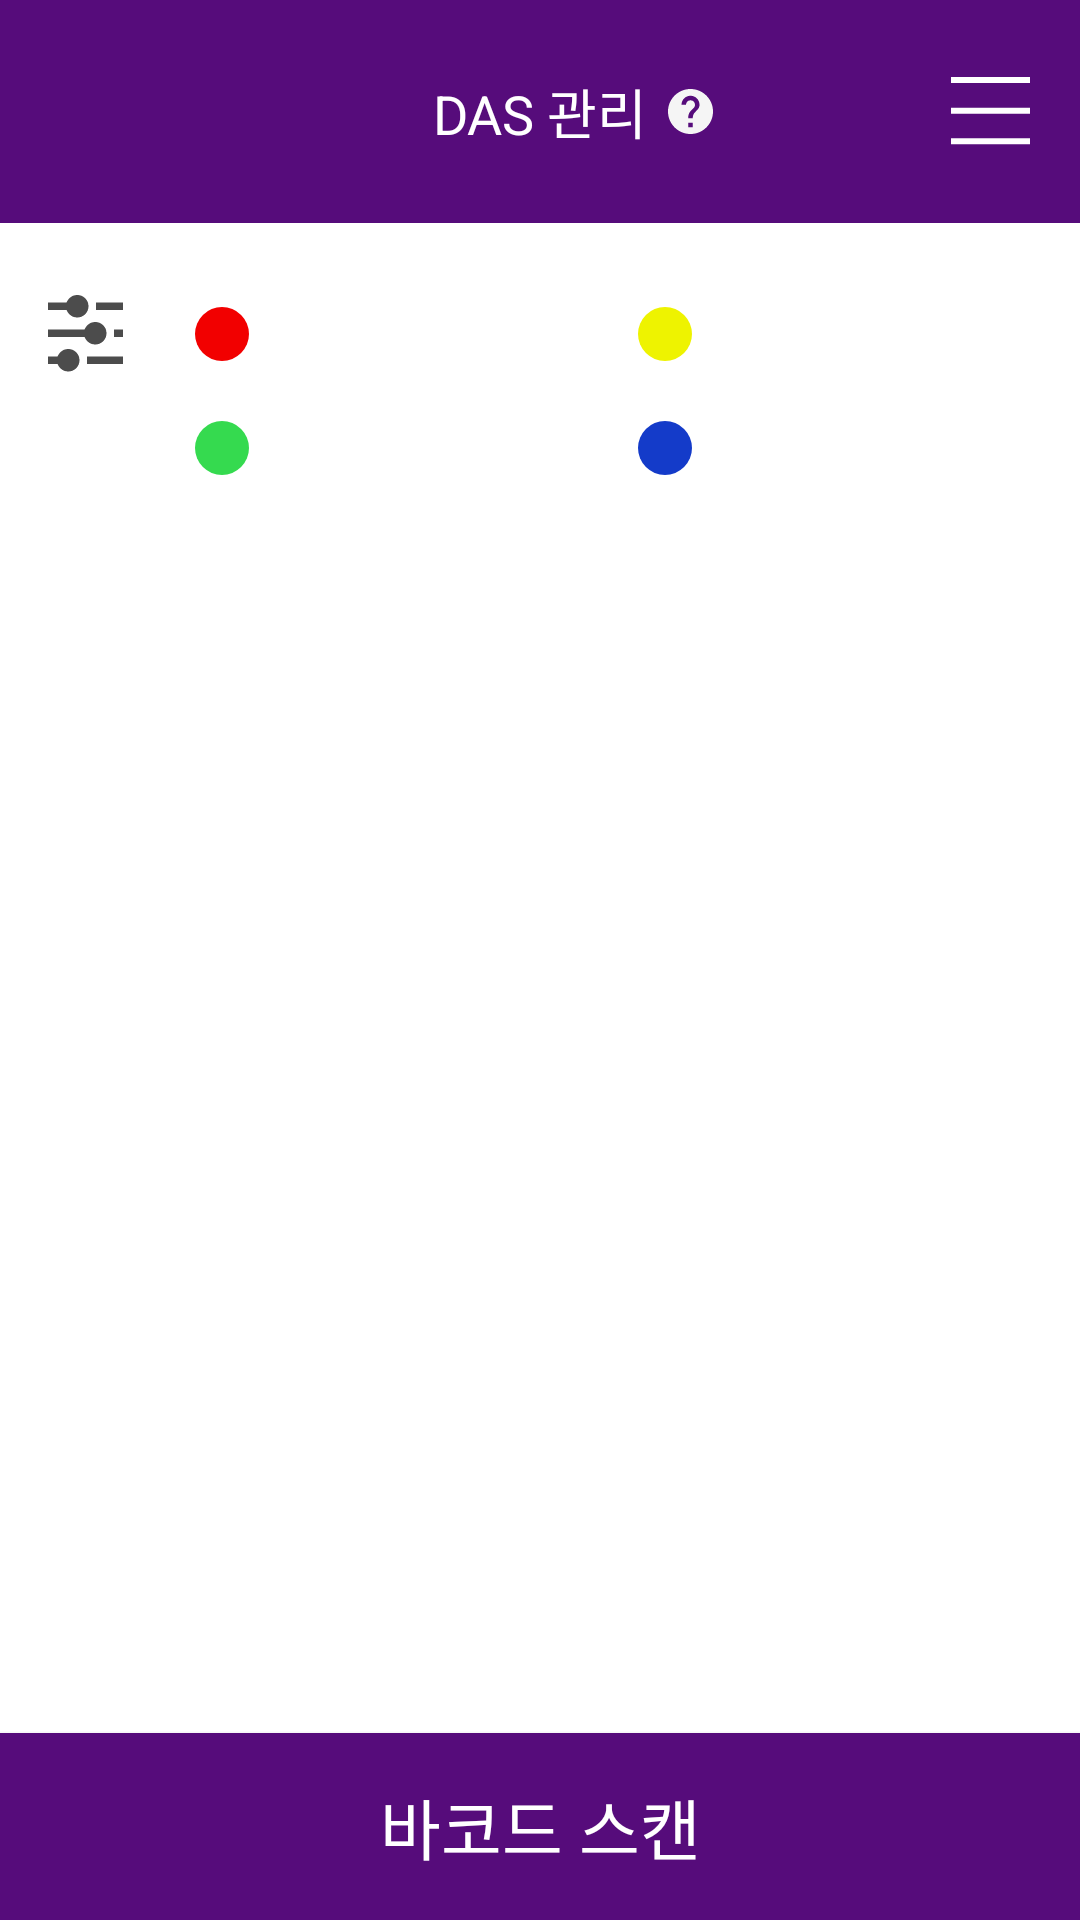

Where icons sit on this 1080 x 1920 app screen, as (x1, y1, x2, y2):
filter: (48, 295, 123, 372)
menu: (951, 77, 1030, 145)
question: (668, 89, 713, 134)
